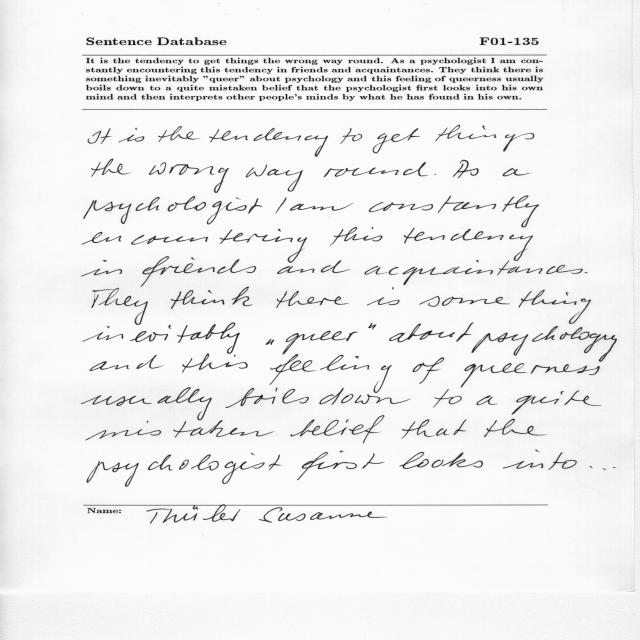word: (82, 229, 307, 263), (87, 453, 282, 487), (419, 290, 591, 324), (364, 260, 583, 285), (369, 196, 539, 228), (471, 326, 617, 362), (84, 196, 263, 224), (83, 323, 240, 354), (270, 354, 392, 393), (81, 387, 212, 420), (404, 228, 533, 261), (86, 420, 275, 440), (461, 363, 600, 388), (209, 128, 328, 157), (141, 257, 256, 287), (436, 125, 535, 152), (291, 416, 385, 444), (297, 451, 385, 480), (149, 162, 229, 193), (512, 391, 602, 415), (92, 288, 148, 325), (282, 331, 358, 355), (171, 287, 253, 309), (226, 388, 309, 408), (389, 323, 474, 342), (324, 162, 429, 177), (320, 388, 411, 405), (246, 165, 303, 191), (503, 450, 577, 470), (400, 452, 483, 469), (182, 354, 248, 373), (401, 420, 467, 439), (277, 291, 350, 308), (373, 128, 420, 154), (90, 355, 163, 371), (484, 419, 547, 437), (277, 260, 350, 274), (330, 227, 382, 246), (413, 358, 445, 384), (91, 159, 131, 176), (82, 260, 122, 277), (158, 126, 200, 142), (367, 288, 400, 306), (433, 390, 462, 408), (290, 203, 353, 211), (453, 160, 479, 178), (88, 128, 112, 144), (119, 128, 145, 142), (340, 128, 362, 144), (503, 169, 530, 177), (477, 396, 498, 406), (276, 198, 287, 214), (590, 466, 616, 470), (266, 339, 274, 345), (369, 323, 376, 329), (585, 272, 588, 273), (435, 174, 437, 175)
